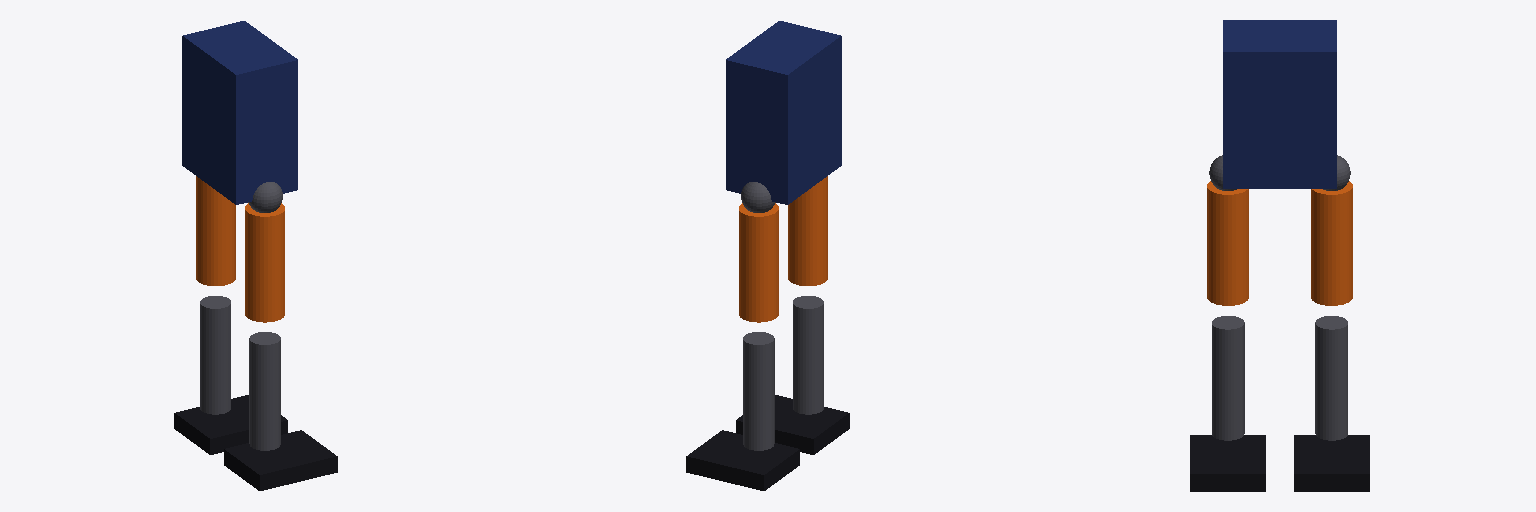
The robot description file, URDF, robot "biped":
<?xml version="1.0"?>
<robot name="biped">
  <material name="navy"><color rgba="0.16 0.22 0.42 1"/></material>
  <material name="orange"><color rgba="0.85 0.42 0.12 1"/></material>
  <material name="grey"><color rgba="0.35 0.35 0.38 1"/></material>
  <material name="dark"><color rgba="0.12 0.12 0.14 1"/></material>
  <link name="torso">
    <visual><origin xyz="0.0000 0 0.1600"/><geometry><box size="0.16 0.24 0.32"/></geometry><material name="navy"/></visual>
    <collision><origin xyz="0.0000 0 0.1600"/><geometry><box size="0.16 0.24 0.32"/></geometry></collision>
    <inertial><origin xyz="0.0000 0 0.1600"/><mass value="6.0"/><inertia ixx="8.00000e-02" iyy="6.40000e-02" izz="4.16000e-02" ixy="0" ixz="0" iyz="0"/></inertial>
  </link>
  <link name="L_hip_yaw_link">
    <visual><geometry><sphere radius="0.04"/></geometry><material name="grey"/></visual>
    <inertial><origin xyz='0 0 0'/><mass value="0.15"/><inertia ixx="9.60000e-05" iyy="9.60000e-05" izz="9.60000e-05" ixy="0" ixz="0" iyz="0"/></inertial>
  </link>
  <link name="L_hip_roll_link">
    <visual><geometry><sphere radius="0.04"/></geometry><material name="grey"/></visual>
    <inertial><origin xyz='0 0 0'/><mass value="0.15"/><inertia ixx="9.60000e-05" iyy="9.60000e-05" izz="9.60000e-05" ixy="0" ixz="0" iyz="0"/></inertial>
  </link>
  <link name="L_thigh">
    <visual><origin xyz="0 0 -0.1600"/><geometry><cylinder radius="0.045" length="0.2600"/></geometry><material name="orange"/></visual>
    <collision><origin xyz="0 0 -0.1600"/><geometry><cylinder radius="0.045" length="0.2600"/></geometry></collision>
    <inertial><origin xyz="0 0 -0.1600"/><mass value="2.0"/><inertia ixx="1.80792e-02" iyy="1.80792e-02" izz="2.02500e-03" ixy="0" ixz="0" iyz="0"/></inertial>
  </link>
  <link name="L_shank">
    <visual><origin xyz="0 0 -0.1600"/><geometry><cylinder radius="0.035" length="0.2600"/></geometry><material name="grey"/></visual>
    <collision><origin xyz="0 0 -0.1600"/><geometry><cylinder radius="0.035" length="0.2600"/></geometry></collision>
    <inertial><origin xyz="0 0 -0.1600"/><mass value="1.5"/><inertia ixx="1.32594e-02" iyy="1.32594e-02" izz="9.18750e-04" ixy="0" ixz="0" iyz="0"/></inertial>
  </link>
  <link name="L_foot">
    <visual><origin xyz="0.0400 0 -0.0200"/><geometry><box size="0.2 0.16 0.04"/></geometry><material name="dark"/></visual>
    <collision><origin xyz="0.0400 0 -0.0200"/><geometry><box size="0.2 0.16 0.04"/></geometry></collision>
    <inertial><origin xyz="0.0400 0 -0.0200"/><mass value="0.7"/><inertia ixx="1.58667e-03" iyy="2.42667e-03" izz="3.82667e-03" ixy="0" ixz="0" iyz="0"/></inertial>
  </link>
  <joint name="L_hip_yaw" type="revolute">
    <parent link="torso"/><child link="L_hip_yaw_link"/>
    <origin xyz="0 0.1100 0"/><axis xyz="0 0 1"/>
    <limit lower="-0.6" upper="0.6" effort="50.0" velocity="12.0"/>
  </joint>
  <joint name="L_hip_roll" type="revolute">
    <parent link="L_hip_yaw_link"/><child link="L_hip_roll_link"/>
    <origin xyz="0 0 0"/><axis xyz="1 0 0"/>
    <limit lower="-0.7" upper="0.7" effort="100.0" velocity="12.0"/>
  </joint>
  <joint name="L_hip_pitch" type="revolute">
    <parent link="L_hip_roll_link"/><child link="L_thigh"/>
    <origin xyz="0 0 0"/><axis xyz="0 1 0"/>
    <limit lower="-1.5" upper="1.0" effort="150.0" velocity="15.0"/>
  </joint>
  <joint name="L_knee" type="revolute">
    <parent link="L_thigh"/><child link="L_shank"/>
    <origin xyz="0 0 -0.3200"/><axis xyz="0 1 0"/>
    <limit lower="0.0" upper="2.2" effort="150.0" velocity="15.0"/>
  </joint>
  <joint name="L_ankle" type="revolute">
    <parent link="L_shank"/><child link="L_foot"/>
    <origin xyz="0 0 -0.3200"/><axis xyz="0 1 0"/>
    <limit lower="-0.8" upper="0.8" effort="80.0" velocity="15.0"/>
  </joint>
  <link name="R_hip_yaw_link">
    <visual><geometry><sphere radius="0.04"/></geometry><material name="grey"/></visual>
    <inertial><origin xyz='0 0 0'/><mass value="0.15"/><inertia ixx="9.60000e-05" iyy="9.60000e-05" izz="9.60000e-05" ixy="0" ixz="0" iyz="0"/></inertial>
  </link>
  <link name="R_hip_roll_link">
    <visual><geometry><sphere radius="0.04"/></geometry><material name="grey"/></visual>
    <inertial><origin xyz='0 0 0'/><mass value="0.15"/><inertia ixx="9.60000e-05" iyy="9.60000e-05" izz="9.60000e-05" ixy="0" ixz="0" iyz="0"/></inertial>
  </link>
  <link name="R_thigh">
    <visual><origin xyz="0 0 -0.1600"/><geometry><cylinder radius="0.045" length="0.2600"/></geometry><material name="orange"/></visual>
    <collision><origin xyz="0 0 -0.1600"/><geometry><cylinder radius="0.045" length="0.2600"/></geometry></collision>
    <inertial><origin xyz="0 0 -0.1600"/><mass value="2.0"/><inertia ixx="1.80792e-02" iyy="1.80792e-02" izz="2.02500e-03" ixy="0" ixz="0" iyz="0"/></inertial>
  </link>
  <link name="R_shank">
    <visual><origin xyz="0 0 -0.1600"/><geometry><cylinder radius="0.035" length="0.2600"/></geometry><material name="grey"/></visual>
    <collision><origin xyz="0 0 -0.1600"/><geometry><cylinder radius="0.035" length="0.2600"/></geometry></collision>
    <inertial><origin xyz="0 0 -0.1600"/><mass value="1.5"/><inertia ixx="1.32594e-02" iyy="1.32594e-02" izz="9.18750e-04" ixy="0" ixz="0" iyz="0"/></inertial>
  </link>
  <link name="R_foot">
    <visual><origin xyz="0.0400 0 -0.0200"/><geometry><box size="0.2 0.16 0.04"/></geometry><material name="dark"/></visual>
    <collision><origin xyz="0.0400 0 -0.0200"/><geometry><box size="0.2 0.16 0.04"/></geometry></collision>
    <inertial><origin xyz="0.0400 0 -0.0200"/><mass value="0.7"/><inertia ixx="1.58667e-03" iyy="2.42667e-03" izz="3.82667e-03" ixy="0" ixz="0" iyz="0"/></inertial>
  </link>
  <joint name="R_hip_yaw" type="revolute">
    <parent link="torso"/><child link="R_hip_yaw_link"/>
    <origin xyz="0 -0.1100 0"/><axis xyz="0 0 1"/>
    <limit lower="-0.6" upper="0.6" effort="50.0" velocity="12.0"/>
  </joint>
  <joint name="R_hip_roll" type="revolute">
    <parent link="R_hip_yaw_link"/><child link="R_hip_roll_link"/>
    <origin xyz="0 0 0"/><axis xyz="1 0 0"/>
    <limit lower="-0.7" upper="0.7" effort="100.0" velocity="12.0"/>
  </joint>
  <joint name="R_hip_pitch" type="revolute">
    <parent link="R_hip_roll_link"/><child link="R_thigh"/>
    <origin xyz="0 0 0"/><axis xyz="0 1 0"/>
    <limit lower="-1.5" upper="1.0" effort="150.0" velocity="15.0"/>
  </joint>
  <joint name="R_knee" type="revolute">
    <parent link="R_thigh"/><child link="R_shank"/>
    <origin xyz="0 0 -0.3200"/><axis xyz="0 1 0"/>
    <limit lower="0.0" upper="2.2" effort="150.0" velocity="15.0"/>
  </joint>
  <joint name="R_ankle" type="revolute">
    <parent link="R_shank"/><child link="R_foot"/>
    <origin xyz="0 0 -0.3200"/><axis xyz="0 1 0"/>
    <limit lower="-0.8" upper="0.8" effort="80.0" velocity="15.0"/>
  </joint>
</robot>

--- Facts derived from the render (not from the file) ---
3 views of the same robot in one strip: view 1: azimuth 30°, elevation 25°; view 2: azimuth 150°, elevation 25°; view 3: azimuth 270°, elevation 25° (orthographic).
Model biped with 11 links and 10 joints (10 revolute), rooted at torso, posed every joint at zero.
Visible links, largest first — view 1: torso, R_thigh, R_foot, L_thigh, R_shank, L_shank, L_foot, R_hip_yaw_link; view 2: torso, L_thigh, L_foot, R_thigh, L_shank, R_shank, R_foot, L_hip_yaw_link; view 3: torso, L_thigh, R_thigh, L_foot, R_foot, L_shank, R_shank.
Boxes of the visible links, bbox=[...] form: torso: bbox=[182, 21, 297, 204]; R_thigh: bbox=[245, 203, 284, 322]; R_foot: bbox=[224, 430, 337, 490]; L_thigh: bbox=[196, 176, 235, 285]; R_shank: bbox=[249, 332, 280, 450]; L_shank: bbox=[200, 296, 230, 414]; L_foot: bbox=[174, 395, 287, 454]; R_hip_yaw_link: bbox=[248, 182, 282, 212]; torso: bbox=[726, 21, 841, 204]; L_thigh: bbox=[739, 203, 778, 322]; L_foot: bbox=[686, 430, 799, 490]; R_thigh: bbox=[788, 176, 827, 285]; L_shank: bbox=[743, 332, 774, 450]; R_shank: bbox=[793, 296, 823, 414]; R_foot: bbox=[736, 395, 849, 454]; L_hip_yaw_link: bbox=[741, 182, 775, 212]; torso: bbox=[1223, 20, 1336, 188]; L_thigh: bbox=[1311, 181, 1352, 305]; R_thigh: bbox=[1207, 181, 1248, 305]; L_foot: bbox=[1294, 435, 1369, 491]; R_foot: bbox=[1190, 435, 1265, 491]; L_shank: bbox=[1315, 316, 1347, 440]; R_shank: bbox=[1212, 316, 1244, 440].
Bounding box of the posed robot: 0.22 × 0.38 × 1 m (x, y, z).
Geometry: primitives only (box / cylinder / sphere), no mesh files.
